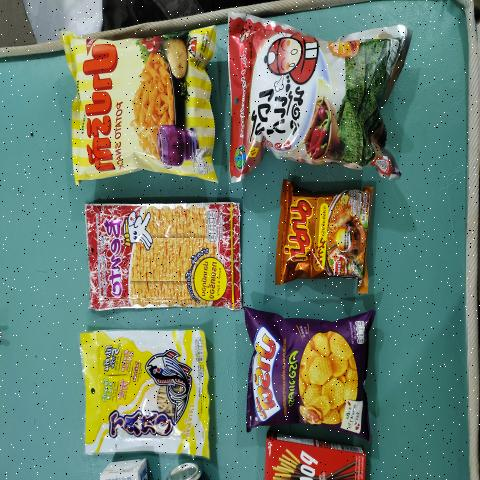bento_red: (90, 208, 234, 303)
mama: (287, 192, 364, 266)
paprika: (77, 35, 201, 170)
party_purple: (256, 324, 361, 422)
pokki: (267, 450, 366, 480)
taokaenoi: (236, 35, 395, 159)
taro_yellow: (86, 335, 201, 448)
